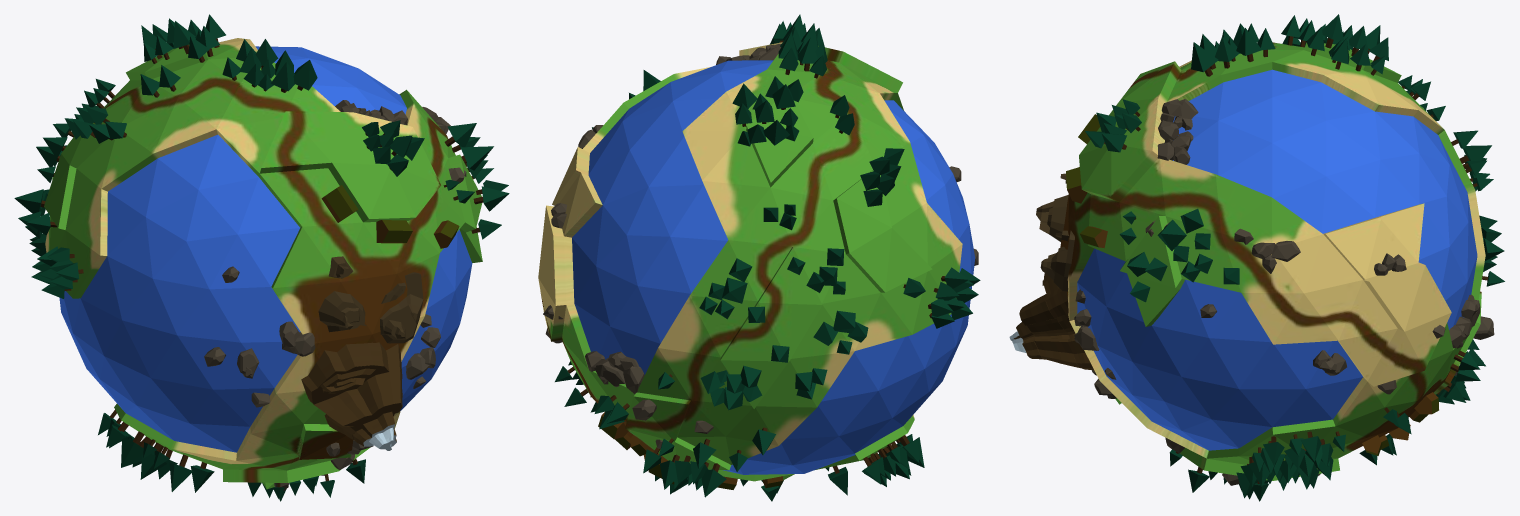
The model's file is portfolio-lq.glb.
The picture shows the model from 3 angles, left to right: view 1: azimuth 30°, elevation 25°; view 2: azimuth 150°, elevation 25°; view 3: azimuth 270°, elevation 25°; orthographic projection. The views are drawn at different scales.
Visible parts, largest first — view 1: land, water, Plane.128, Plane.095, house.007, house.008; view 2: land, water; view 3: land, water, Plane.128, Plane.095, Plane.054.
Boxes of the visible parts, x1,y1,x2,y2 form: land: (44, 38, 482, 489); water: (59, 46, 472, 452); Plane.128: (301, 342, 402, 450); Plane.095: (318, 256, 423, 343); house.007: (376, 220, 412, 243); house.008: (321, 185, 358, 222); land: (538, 42, 962, 481); water: (572, 60, 975, 474); land: (1060, 42, 1485, 480); water: (1077, 69, 1477, 450); Plane.128: (1009, 252, 1093, 369); Plane.095: (1036, 173, 1074, 291); Plane.054: (1191, 42, 1218, 76).
Bounding box in the file's own units: 22.89 × 24.78 × 24.4.
10 materials, 1 textured.
